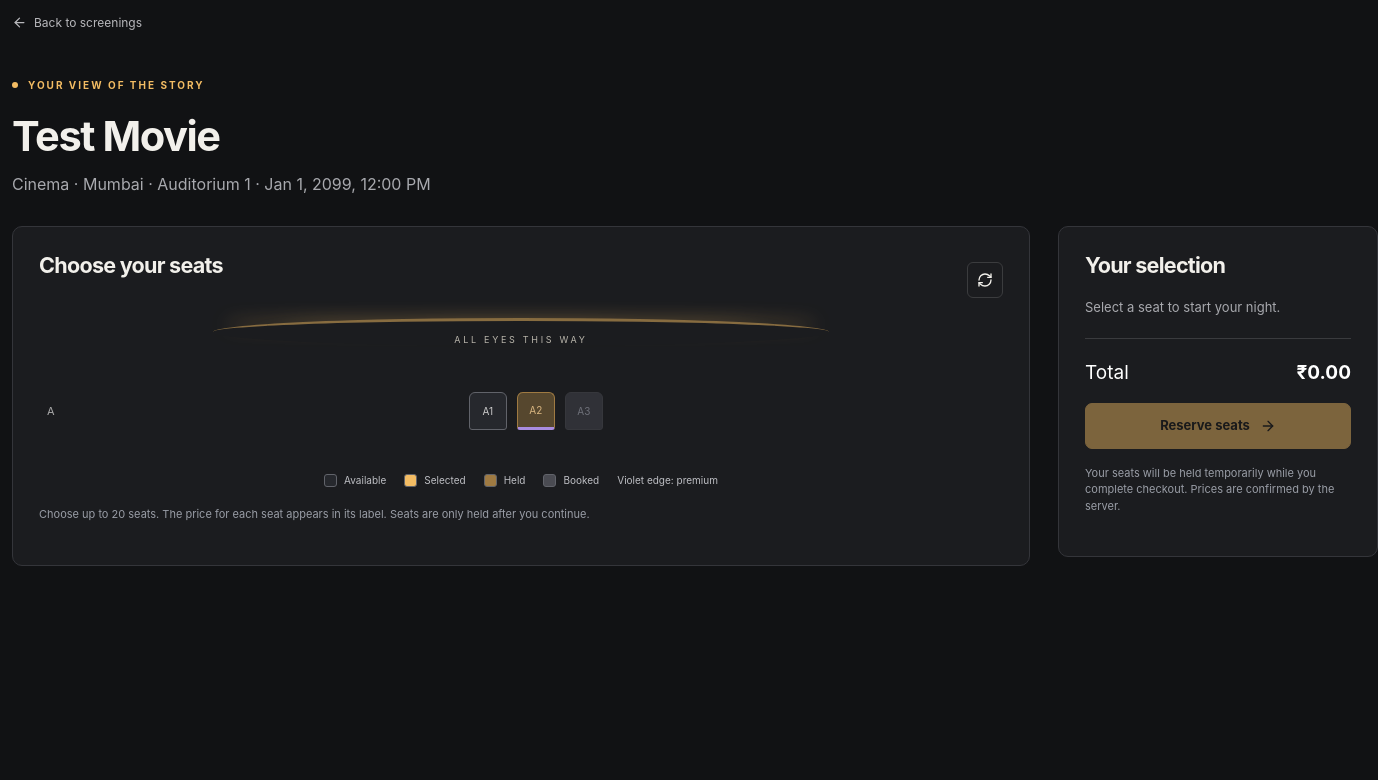
Test: customer interface › handles a booking conflict without false confirmation
Click the button named "Seat A1". click: (488, 411)
box: [469,392,507,430]
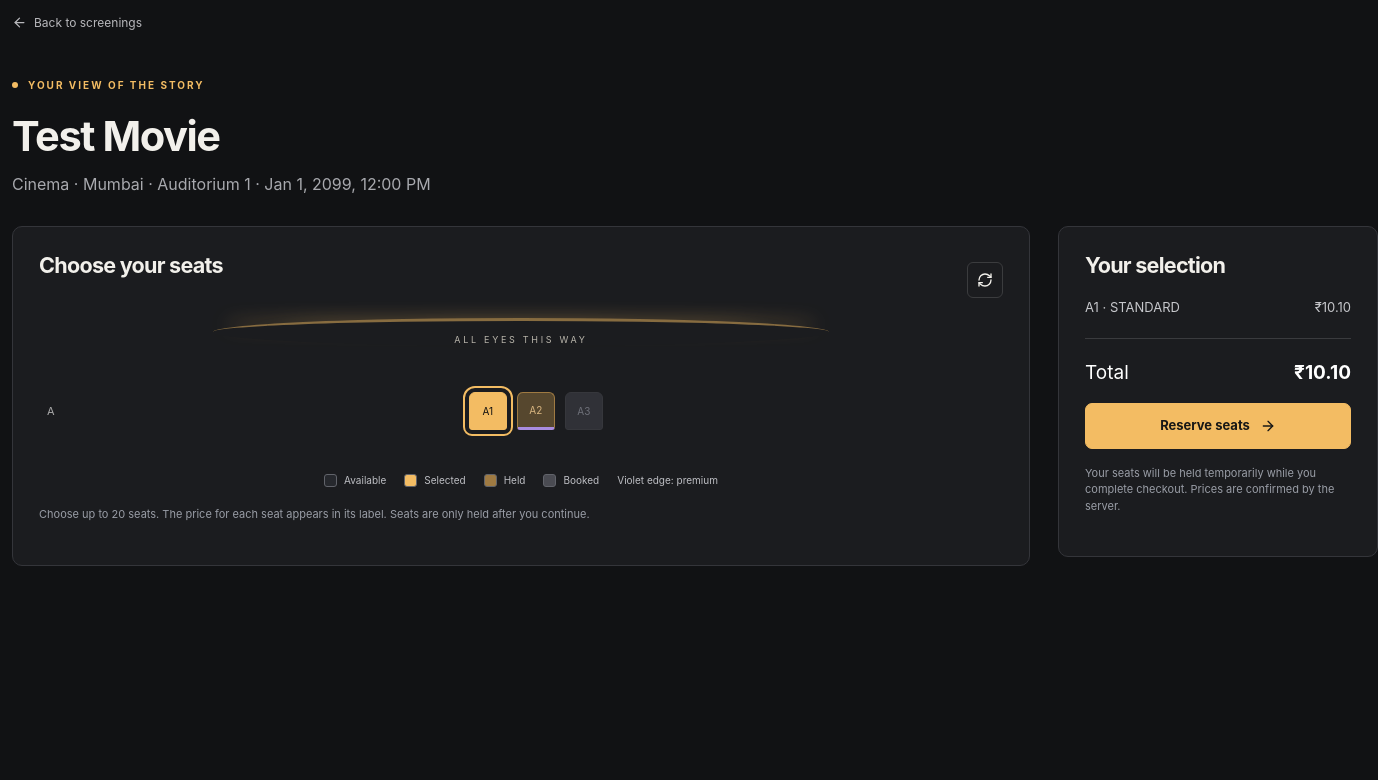
Click the button "Reserve seats". click: (1218, 426)
box: [1085,403,1351,449]
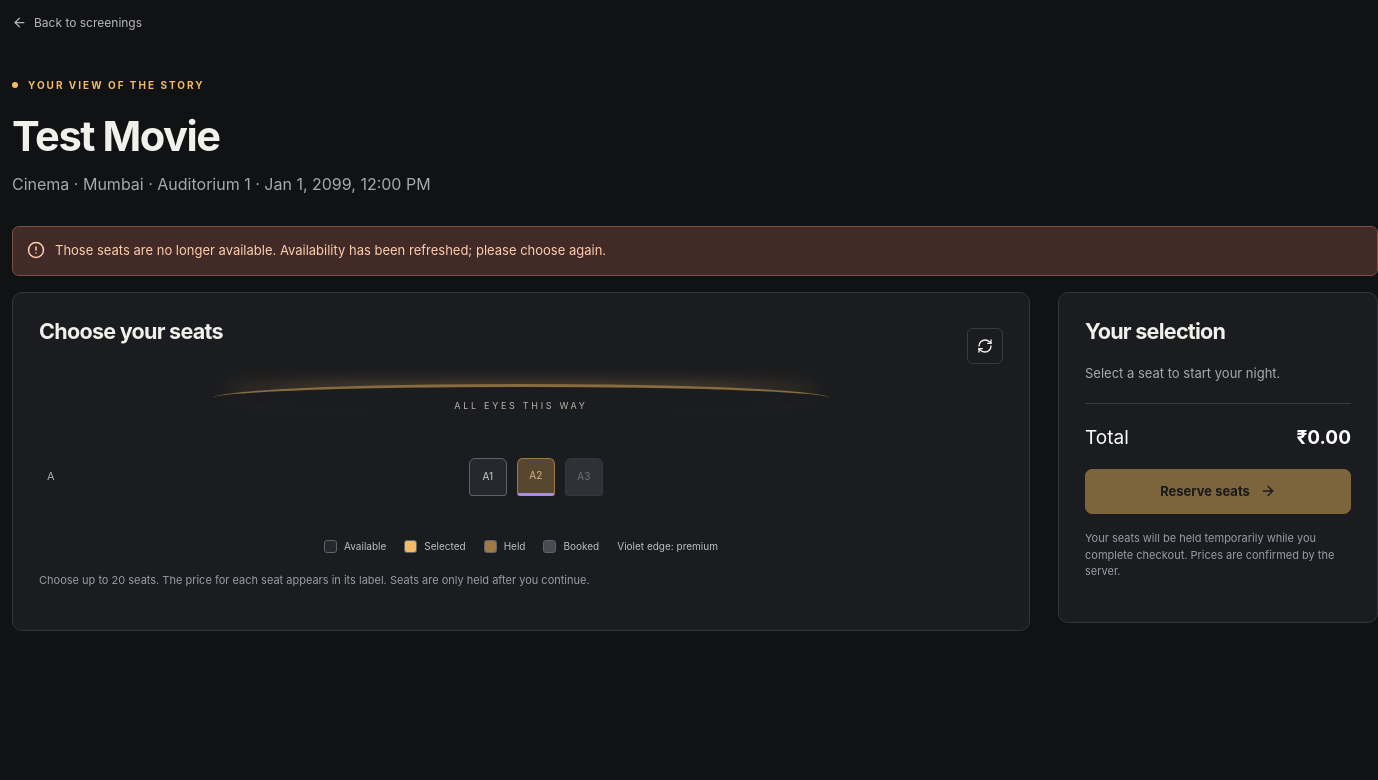
expect the message shows "no longer available": met, box [55,242,606,258]
